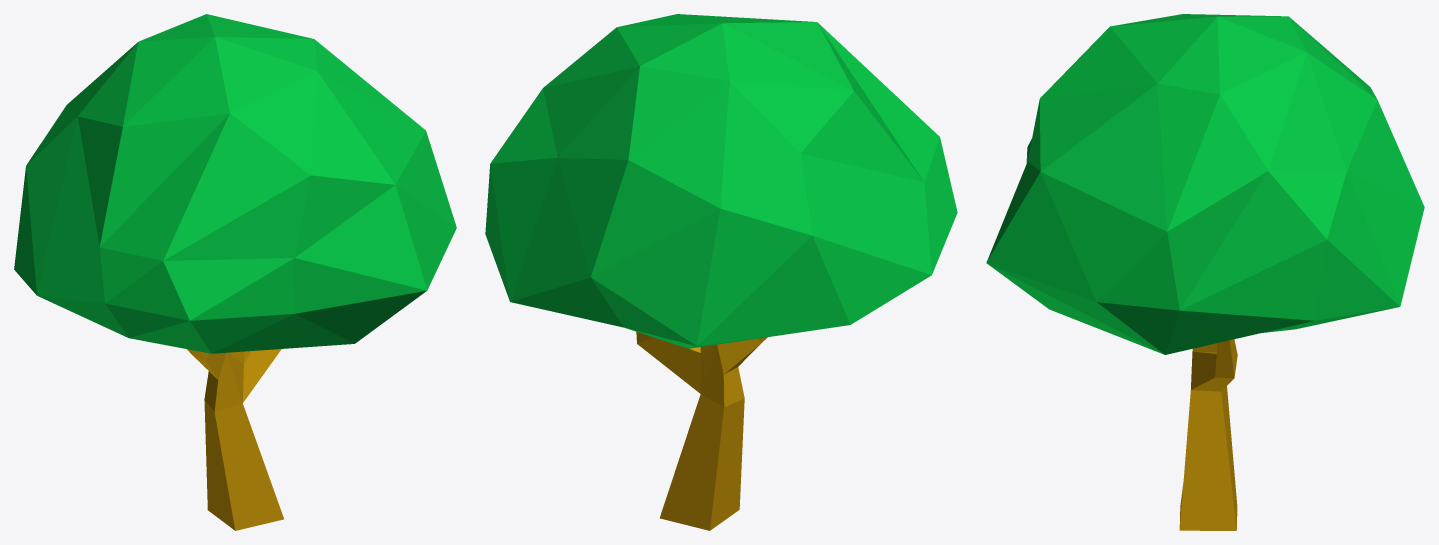
File: stm_env_tree6.fbx
The picture shows the model from 3 angles, left to right: view 1: azimuth 30°, elevation 25°; view 2: azimuth 150°, elevation 25°; view 3: azimuth 270°, elevation 25°; orthographic projection. The views are drawn at different scales.
Parts seen in each view (by area): view 1: Sphere; view 2: Sphere; view 3: Sphere.
Boxes of the visible parts, bbox=[...] form: Sphere: bbox=[14, 14, 456, 530]; Sphere: bbox=[485, 14, 957, 530]; Sphere: bbox=[986, 14, 1424, 530].
Bounding box in the file's own units: 785 × 945 × 768.
